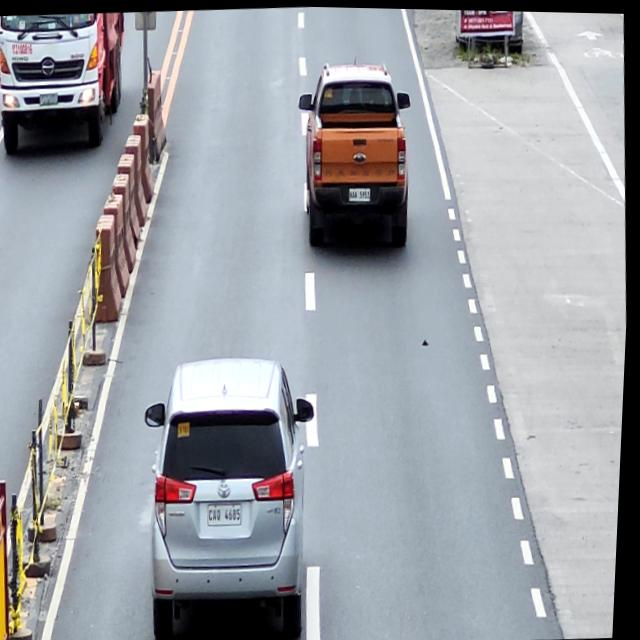Car: (138, 351, 332, 640), (292, 56, 421, 252)
License-Plate: (212, 503, 247, 525), (351, 186, 373, 202), (40, 92, 59, 107)
Truck: (0, 9, 132, 156)
